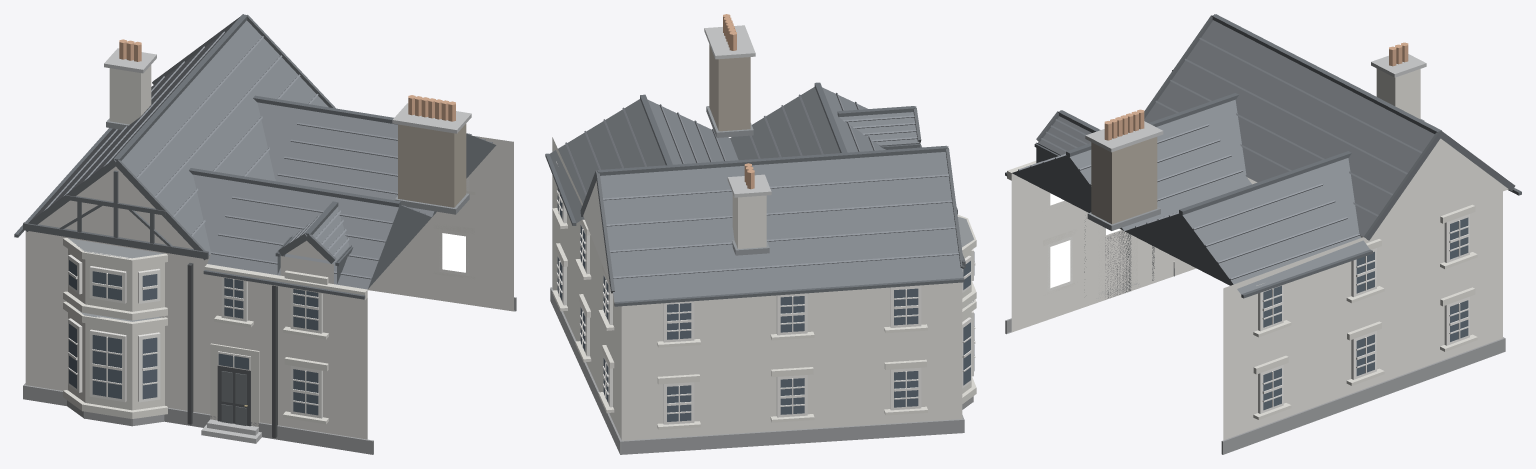
3 views of the same model, side by side, from view 1: azimuth 30°, elevation 25°; view 2: azimuth 150°, elevation 25°; view 3: azimuth 270°, elevation 25° (orthographic). The views are drawn at different scales.
Visible parts, largest first — view 1: harl, slate, string, slate_dk, frame, band_dark, slate_lt, chim_stone, plinth, stone_band, chim_render, pipe (+11 smaller); view 2: slate, harl, frame, slate_dk, plinth, slate_lt, string, chim_stone, stone_band, chim_render, band_dark, lead (+7 smaller); view 3: harl, slate, slate_dk, chim_stone, slate_lt, plinth, frame, string, band_dark, stone_band, chim_render, pot (+9 smaller).
Boxes of the visible parts, x1,y1,x2,y2 form: harl: [25, 136, 513, 439]; slate: [19, 20, 434, 289]; string: [63, 191, 475, 426]; slate_dk: [14, 14, 496, 299]; frame: [68, 176, 469, 418]; band_dark: [23, 14, 336, 263]; slate_lt: [43, 31, 492, 279]; chim_stone: [398, 123, 466, 207]; plinth: [23, 297, 516, 454]; stone_band: [104, 48, 471, 443]; chim_render: [109, 65, 151, 124]; pipe: [187, 263, 277, 438]; slate: [549, 87, 963, 302]; harl: [552, 137, 962, 440]; frame: [556, 190, 975, 424]; slate_dk: [545, 82, 964, 306]; plinth: [550, 287, 973, 454]; slate_lt: [565, 92, 958, 278]; string: [552, 161, 976, 429]; chim_stone: [709, 44, 750, 131]; stone_band: [704, 25, 771, 197]; chim_render: [732, 194, 766, 248]; band_dark: [580, 106, 965, 293]; lead: [706, 106, 974, 307]; harl: [1011, 138, 1508, 440]; slate: [1017, 20, 1517, 294]; slate_dk: [1005, 14, 1521, 298]; chim_stone: [1091, 137, 1157, 224]; slate_lt: [1018, 37, 1422, 280]; plinth: [1005, 263, 1505, 454]; frame: [1047, 199, 1469, 413]; string: [1007, 161, 1477, 419]; band_dark: [1036, 14, 1515, 240]; stone_band: [1085, 54, 1426, 301]; chim_render: [1376, 69, 1420, 119]; pot: [1104, 42, 1408, 140].
Bounding box in the file's own units: 16.04 × 9.27 × 15.85.
